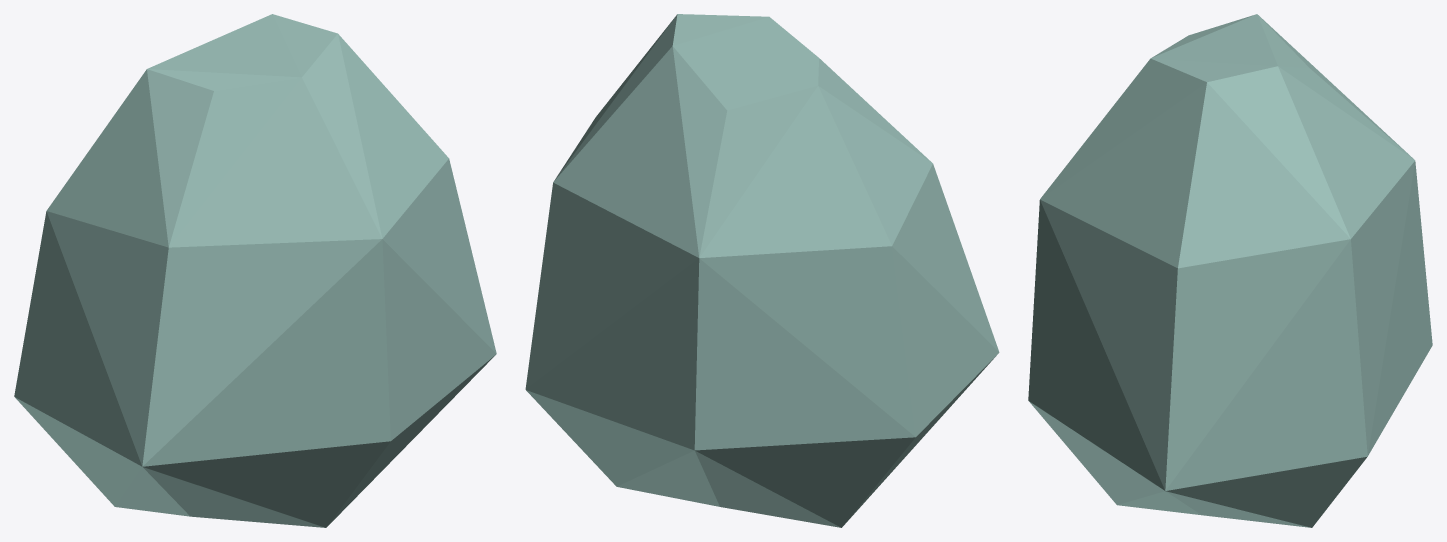
Rendered from SM_MR_Crystal_Loose_03.fbx.
3 renders of one model, left to right at view 1: azimuth 30°, elevation 25°; view 2: azimuth 150°, elevation 25°; view 3: azimuth 270°, elevation 25°, orthographic.
Parts seen in each view (by area): view 1: SM_MR_Crystal_Loose_03; view 2: SM_MR_Crystal_Loose_03; view 3: SM_MR_Crystal_Loose_03.
Part boxes in pixels (left/top/right/bottom): SM_MR_Crystal_Loose_03: left=14, top=14, right=496, bottom=527; SM_MR_Crystal_Loose_03: left=525, top=14, right=999, bottom=527; SM_MR_Crystal_Loose_03: left=1028, top=14, right=1432, bottom=527.
Size of the model in its own units: 0.2566 by 0.2129 by 0.2624.
